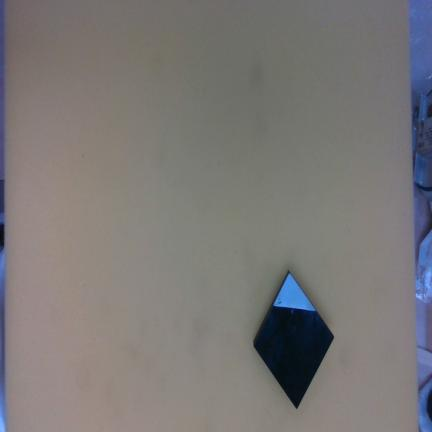tile: (232, 273, 355, 407)
